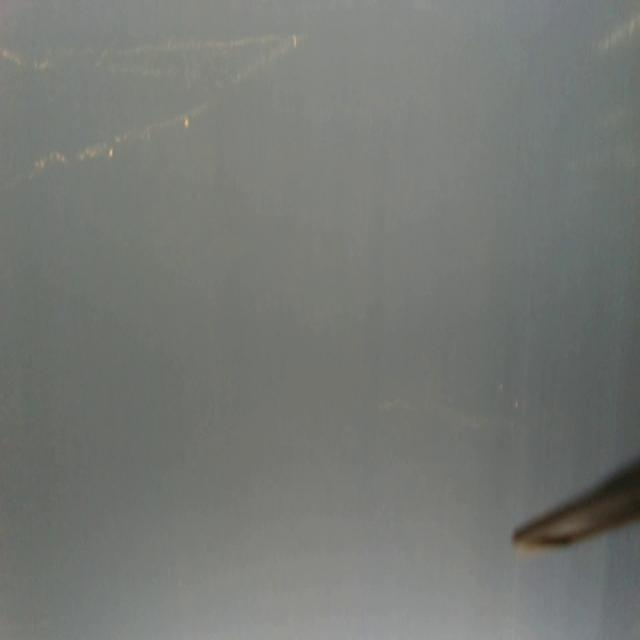hole: (106, 145, 116, 160), (183, 118, 190, 128)
